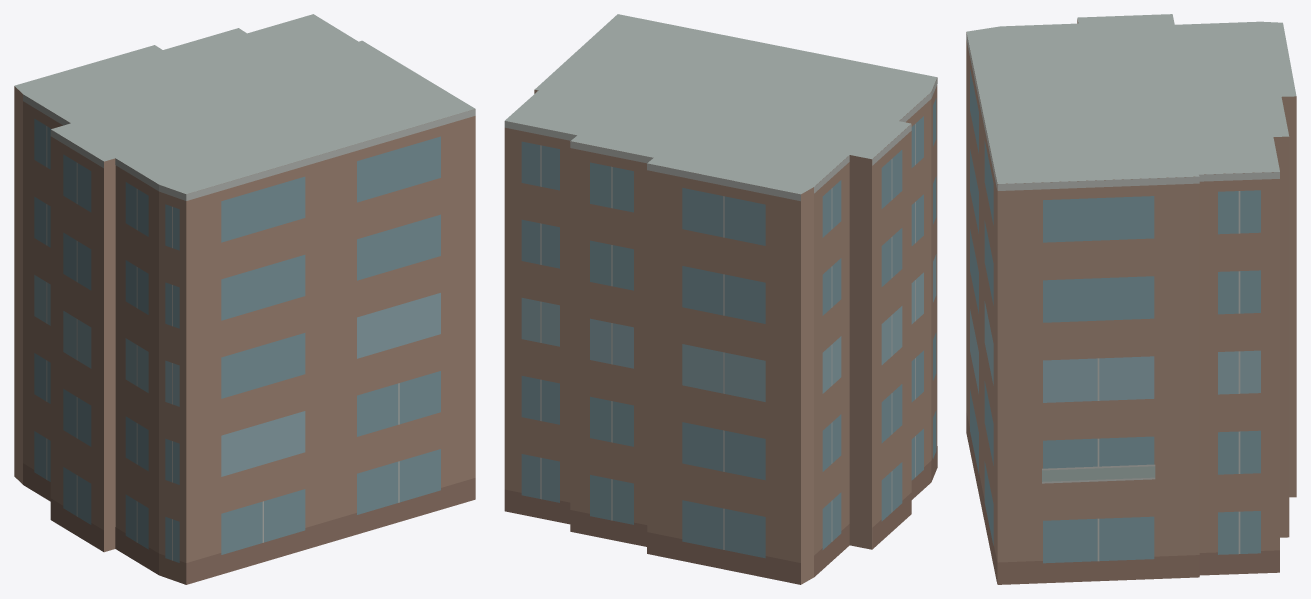
Rendered from survey-upis-33026539.glb.
3 renders of one model, left to right at view 1: azimuth 30°, elevation 25°; view 2: azimuth 150°, elevation 25°; view 3: azimuth 270°, elevation 25°, orthographic. The views are drawn at different scales.
Parts seen in each view (by area): view 1: survey-upis-33026539.tmp; view 2: survey-upis-33026539.tmp; view 3: survey-upis-33026539.tmp.
Boxes of the visible parts, x1,y1,x2,y2 form: survey-upis-33026539.tmp: [14, 14, 475, 584]; survey-upis-33026539.tmp: [504, 14, 937, 584]; survey-upis-33026539.tmp: [966, 14, 1296, 584].
Size of the model in its own units: 12.66 by 13.9 by 10.39.
